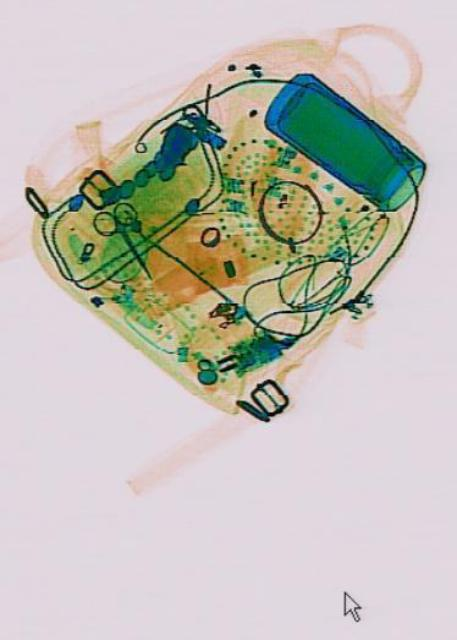Scissors: (88, 187, 165, 293)
